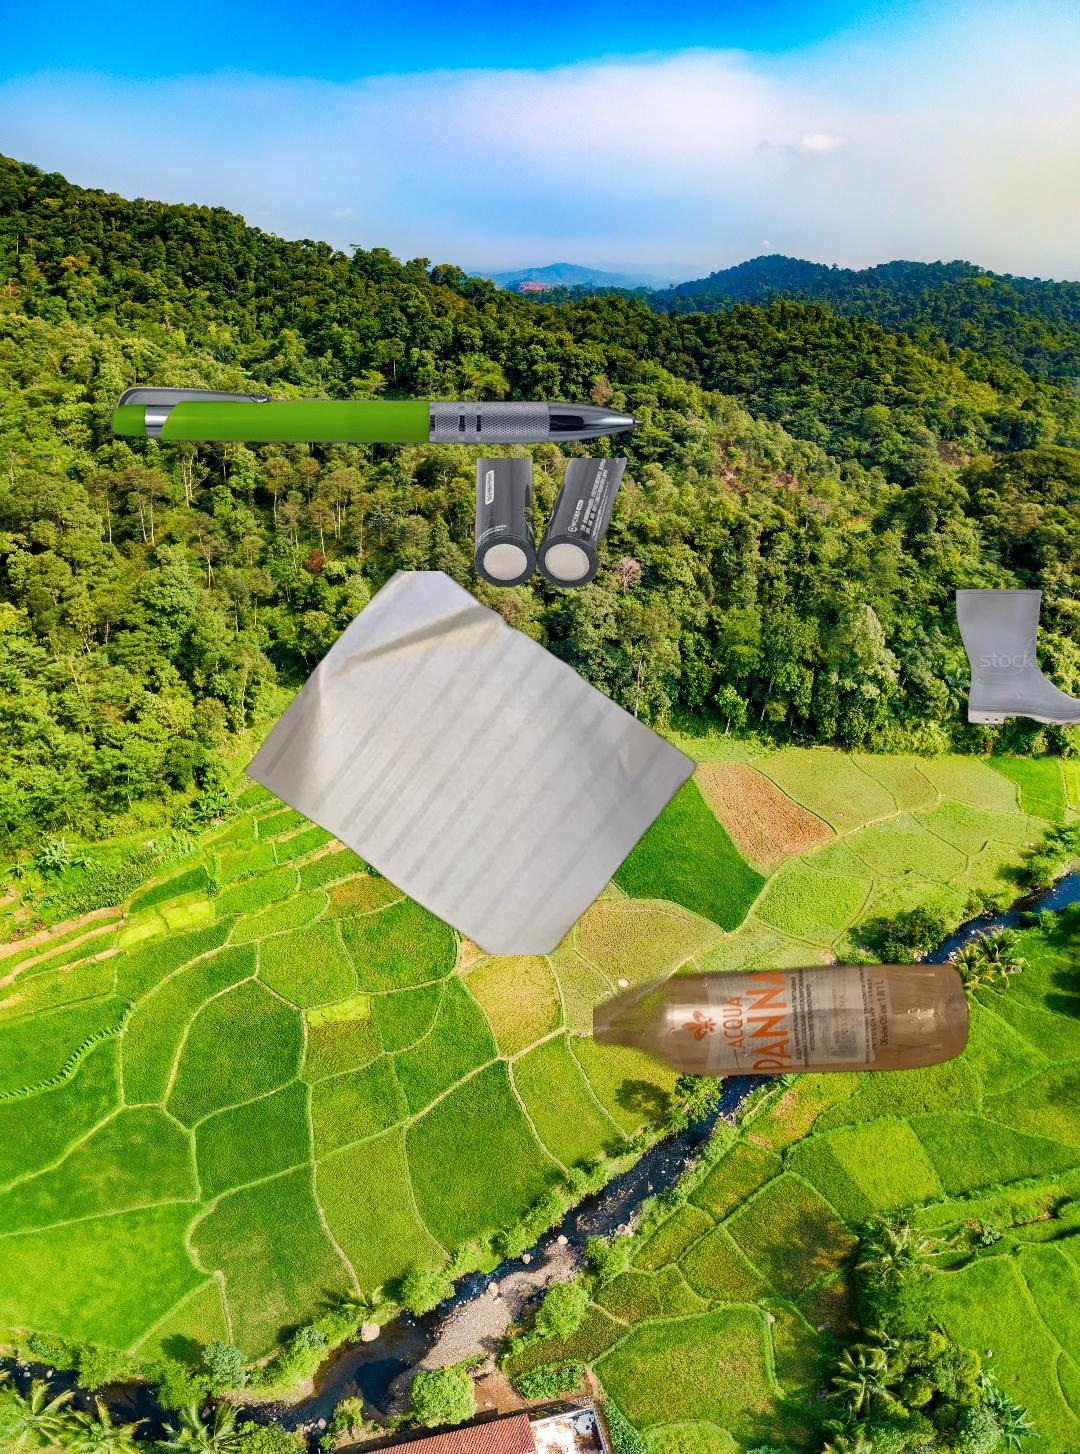battery: (471, 458, 630, 591)
paper: (241, 570, 701, 955)
penholder: (15, 160, 765, 658)
plastic-bottles: (593, 957, 972, 1081)
shoes: (953, 586, 1080, 732)
